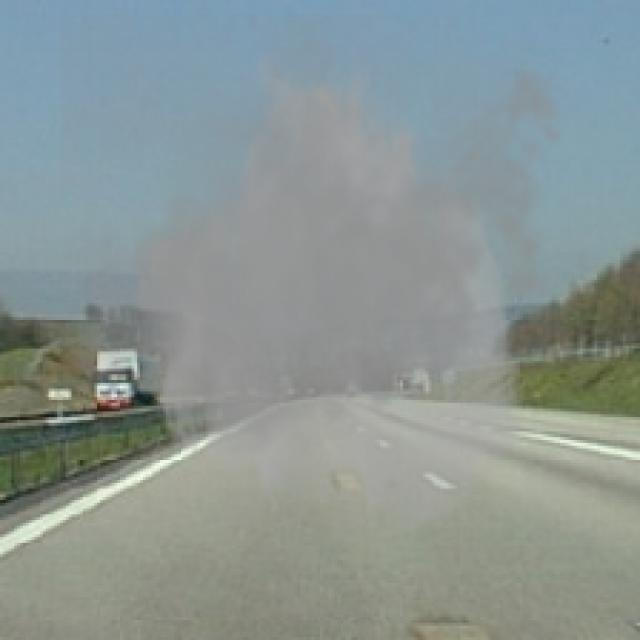Smoke: (60, 14, 580, 537)
